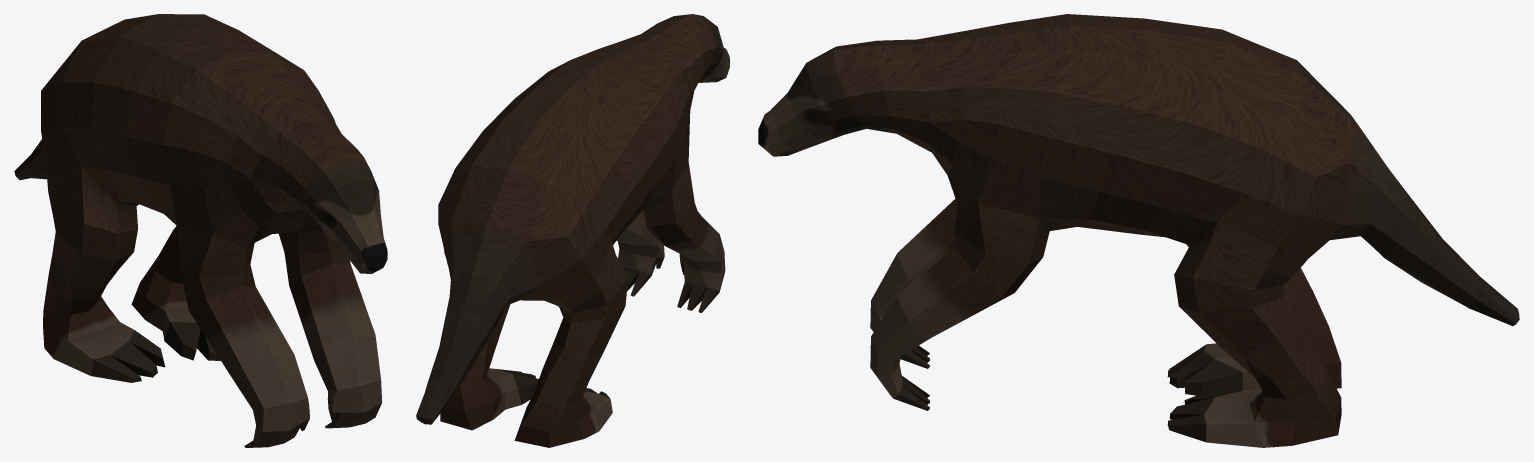
File: GroundSloth.obj
The picture shows the model from 3 angles, left to right: view 1: azimuth 30°, elevation 25°; view 2: azimuth 150°, elevation 25°; view 3: azimuth 270°, elevation 25°; orthographic projection. The views are drawn at different scales.
Visible parts, largest first — view 1: GroundSloth_mesh; view 2: GroundSloth_mesh; view 3: GroundSloth_mesh.
Part boxes in pixels (x1,y1,x2,y2): GroundSloth_mesh: (14, 14, 387, 447); GroundSloth_mesh: (416, 14, 729, 447); GroundSloth_mesh: (758, 14, 1519, 447).
Size of the model in its own units: 2.78 by 4.91 by 9.04.
Materials: 1 (1 with a texture image).
